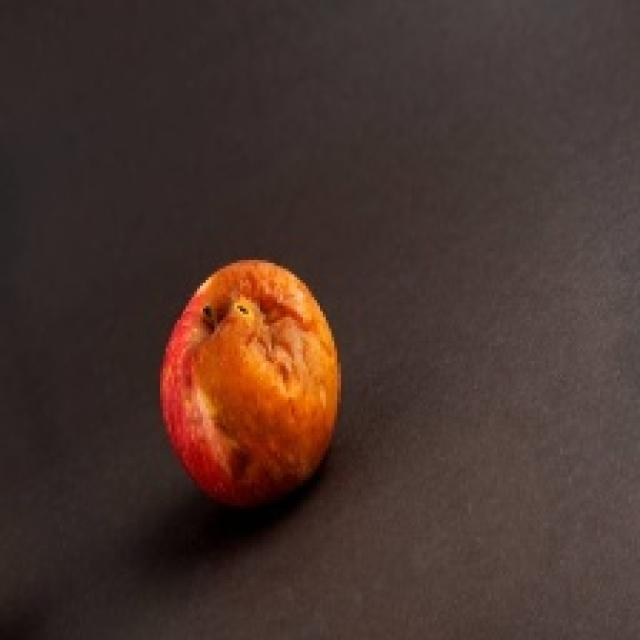rotten_apple: (163, 264, 335, 497)
